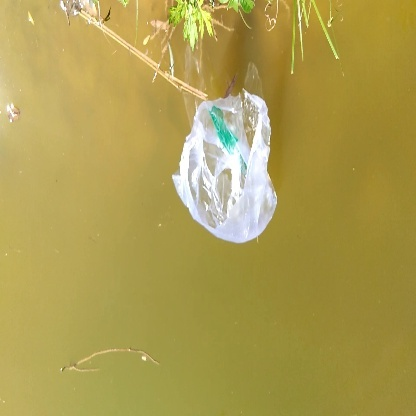plastic-bag: (177, 97, 277, 239)
